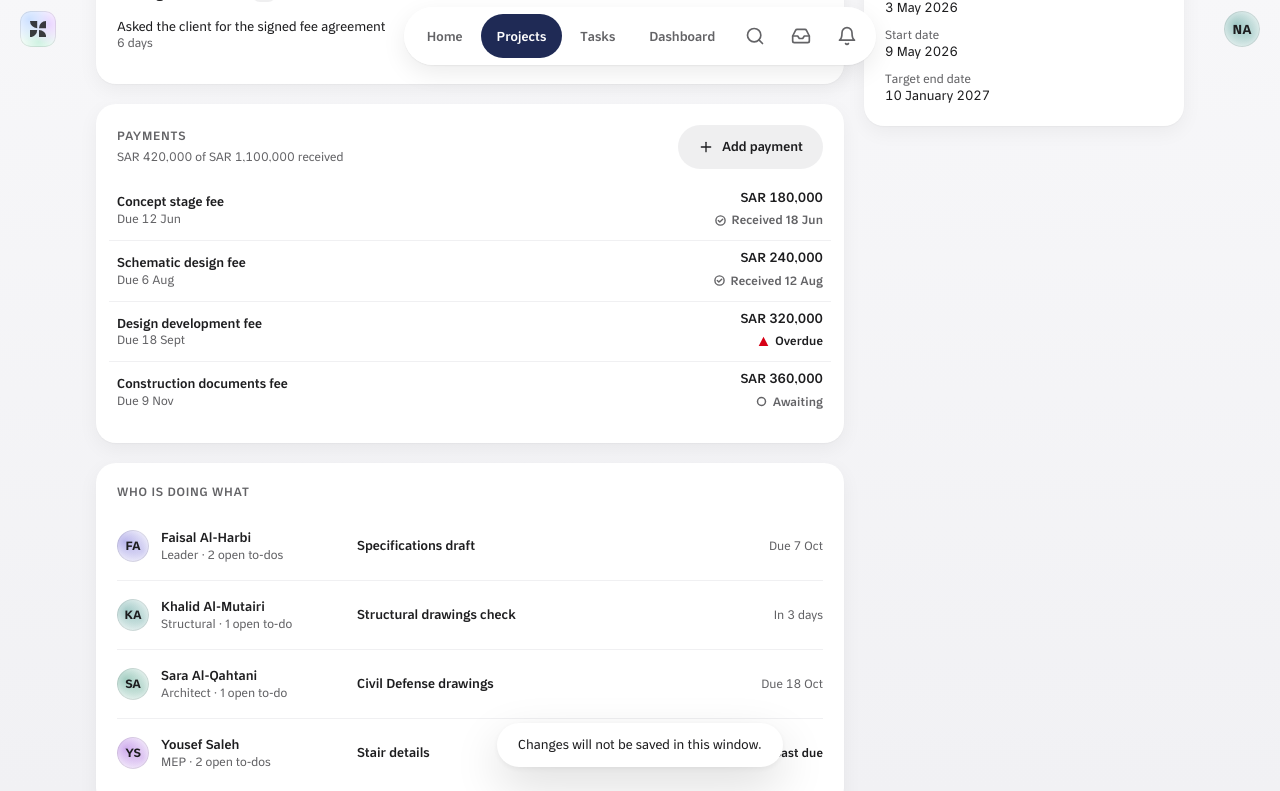
Test: no Daftra part › shows none while daftra.status says not ready, and never asks about the payment
(page scrolled)
What coordinates should you click on to do the following:
click the button "Construction documents fee Due 9 Nov SAR 360,000 Awaiting"
I would click on:
 (202, 383)
Its box is [109,362,831,422].
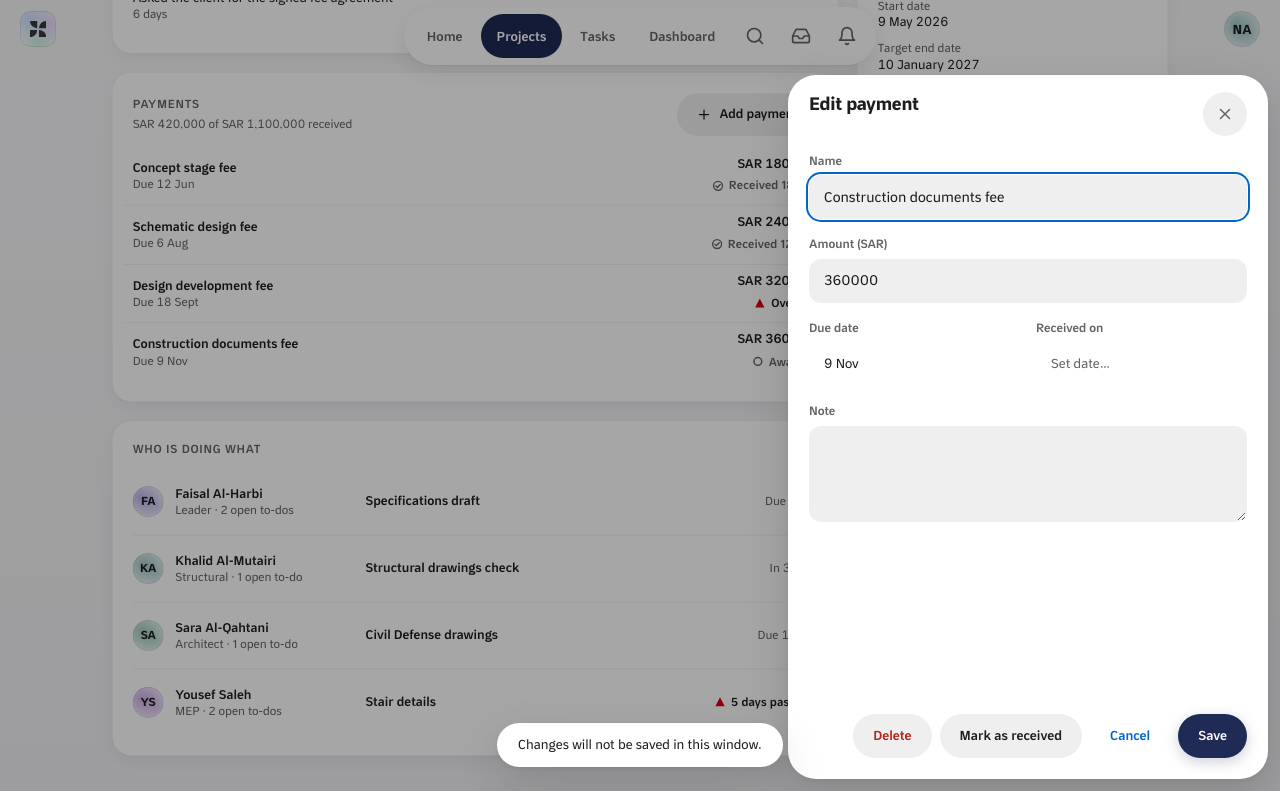
expect the button "Mark as received" is shown: met, box [940,714,1082,758]
